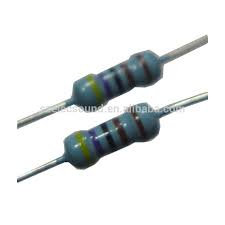resistor: (51, 103, 201, 211), (57, 44, 171, 119)
